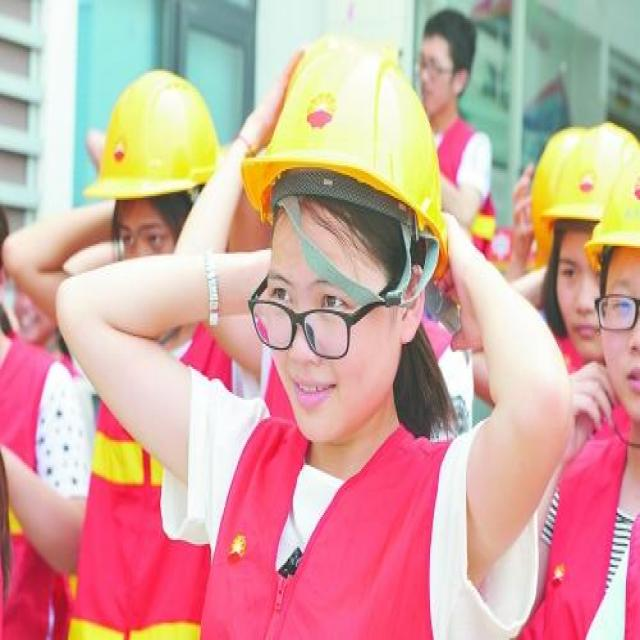Safety-Helmet: (240, 27, 452, 254), (81, 60, 224, 214), (539, 115, 640, 231), (587, 136, 640, 267)
